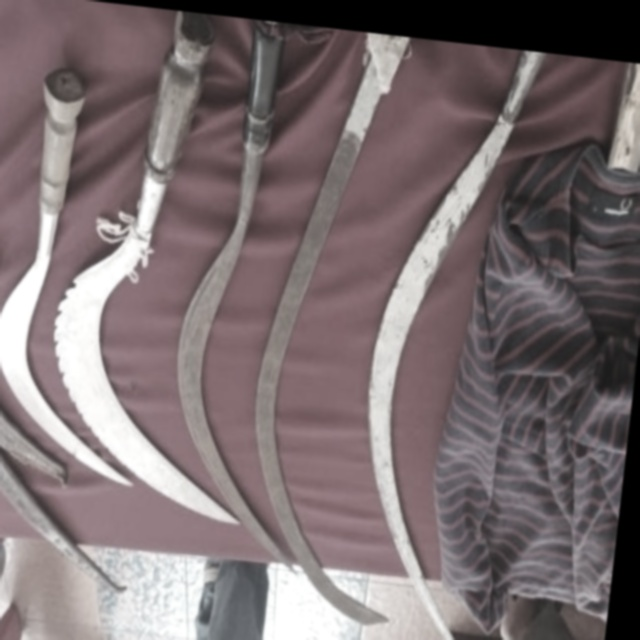Sharp-Object: (326, 36, 581, 640), (27, 6, 285, 556), (0, 52, 170, 503)
